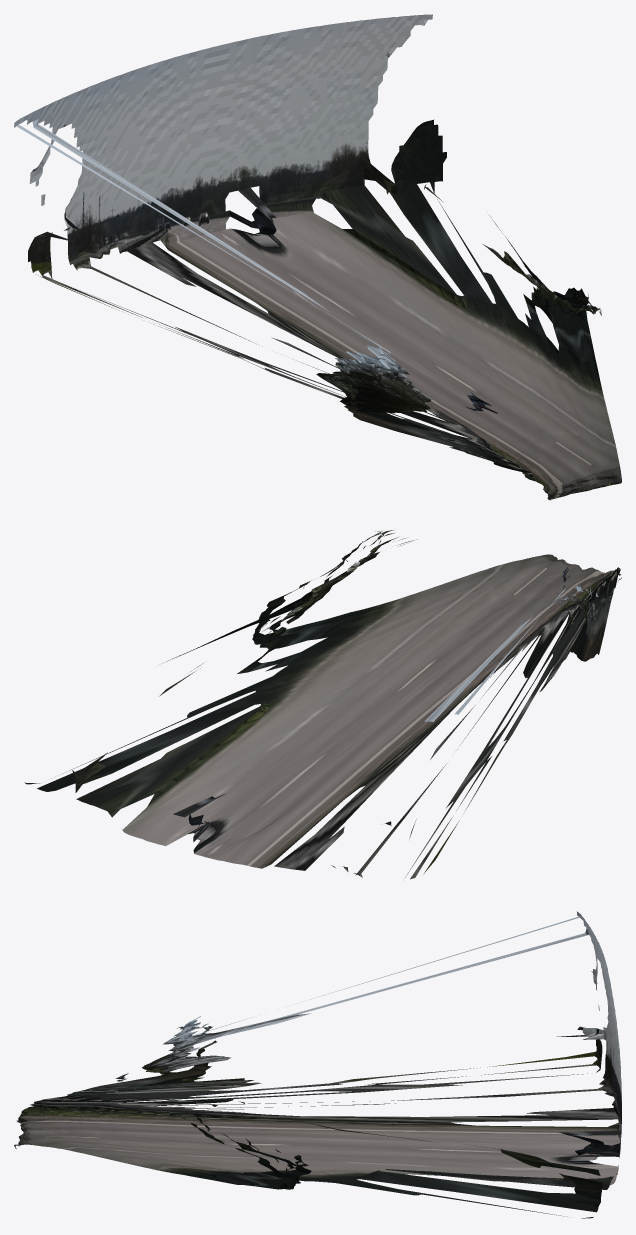
3 views of the same model, one above another, from view 1: azimuth 30°, elevation 25°; view 2: azimuth 150°, elevation 25°; view 3: azimuth 270°, elevation 25° (orthographic). The views are drawn at different scales.
Parts seen in each view (by area): view 1: defaultobject; view 2: defaultobject; view 3: defaultobject.
Boxes of the visible parts, x1=… form: defaultobject: x1=14, y1=14, x2=621, y2=500; defaultobject: x1=24, y1=530, x2=621, y2=879; defaultobject: x1=14, y1=911, x2=621, y2=1218.
Bounding box in the file's own units: 30.07 × 12.62 × 44.53.
1 material, 1 textured.
